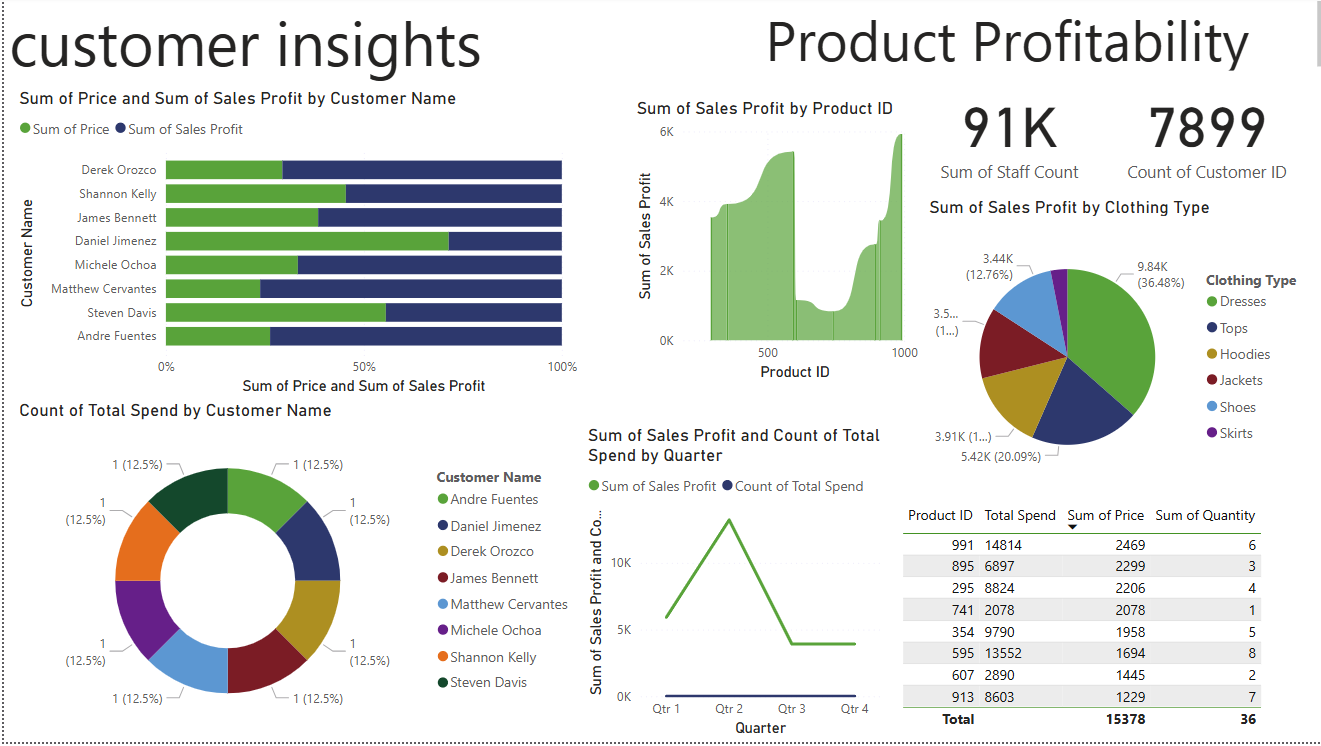

What the dashboard file says about the page in this screenshot:
{"tool":"powerbi","page":{"name":"Page 2","canvas":[1280,720],"ordinal":1},"visuals":[{"type":"hundredPercentStackedBarChart","fields":{"Category":["sales details.Customer Name"],"Y":["sales details.Price","sales details.Sales Profit"]},"box":[9.6,107,548.9,269],"z":0},{"type":"donutChart","fields":{"Y":["sales details.Total Spend "],"Category":["sales details.Customer Name"]},"box":[9.6,389.7,548.9,330.7],"z":1000},{"type":"textbox","box":[0,0,558.5,87.8],"z":2000},{"type":"textbox","box":[730,0,550.3,76.8],"z":3000},{"type":"pieChart","fields":{"Category":["product details.Clothing Type"],"Y":["product details.Sales Profit"]},"box":[887.8,264.8,381.5,251.1],"z":4000},{"type":"ribbonChart","fields":{"Category":["sales details.Product ID"],"Y":["sales details.Sales Profit"]},"box":[605.1,97.4,282.7,278.6],"z":5000},{"type":"tableEx","fields":{"Values":["sales details.Product ID","sales details.Total Spend ","sales details.Price","sales details.Quantity"]},"box":[861.8,503.6,418.5,216.8],"z":6000},{"type":"card","fields":{"Values":["sales details.Customer ID"]},"box":[1104.6,87.8,164.7,116.6],"z":7000},{"type":"card","fields":{"Values":["sales details.Total Spend "]},"box":[887.9,107.4,217.2,133.9],"z":8000},{"type":"lineChart","fields":{"Category":["sales details.Order Date.Variation.Date Hierarchy.Quarter","sales details.Order Date.Variation.Date Hierarchy.Month","sales details.Order Date.Variation.Date Hierarchy.Day"],"Y":["sales details.Sales Profit","sales details.Total Spend "]},"box":[558.5,414.4,292.3,306],"z":9000}]}

Visuals, with their boxes in screenshot pixels (x1, y1, x2, y2), scaled from the page's 1280x720 canvas onto the 1321x746 screenshot:
hundredPercentStackedBarChart - sales details.Customer Name x sales details.Price: bbox=[10, 111, 576, 390]
donutChart - sales details.Total Spend  x sales details.Customer Name: bbox=[10, 404, 576, 745]
textbox: bbox=[0, 0, 576, 91]
textbox: bbox=[753, 0, 1320, 80]
pieChart - product details.Clothing Type x product details.Sales Profit: bbox=[916, 274, 1310, 535]
ribbonChart - sales details.Product ID x sales details.Sales Profit: bbox=[624, 101, 916, 390]
tableEx - sales details.Product ID x sales details.Total Spend : bbox=[889, 522, 1320, 745]
card - sales details.Customer ID: bbox=[1140, 91, 1310, 212]
card - sales details.Total Spend : bbox=[916, 111, 1140, 250]
lineChart - sales details.Order Date.Variation.Date Hierarchy.Quarter x sales details.Order Date.Variation.Date Hierarchy.Month: bbox=[576, 429, 878, 745]
